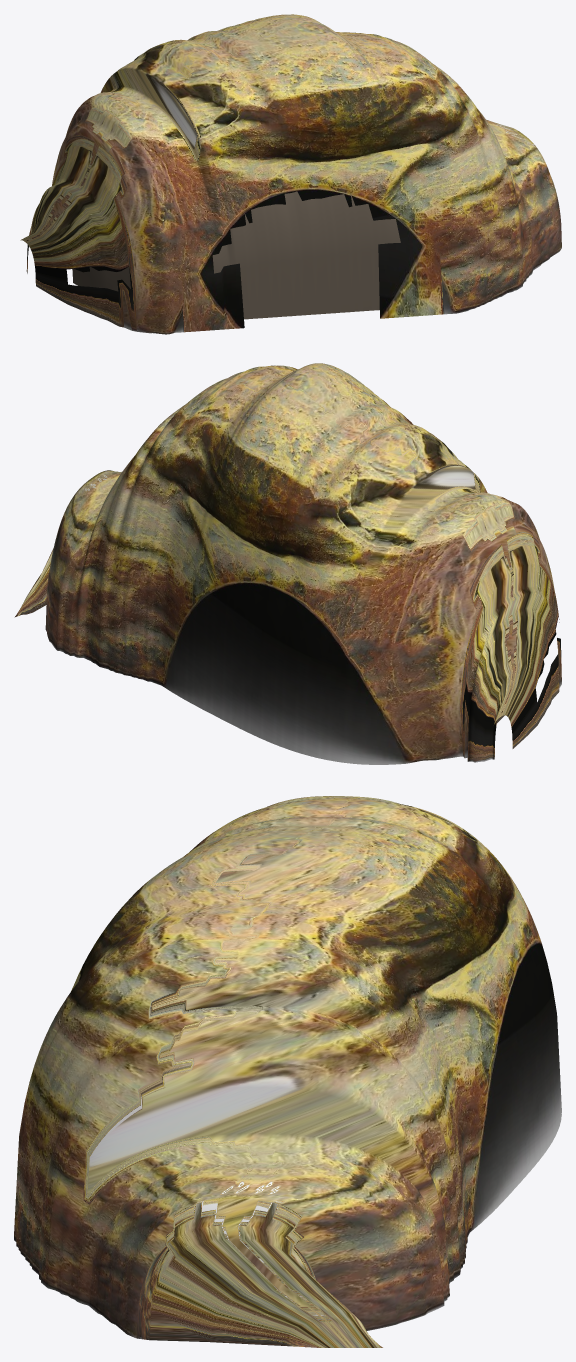
The model's file is skrivalica-pecina.glb.
3 renders of one model, top to bottom at view 1: azimuth 30°, elevation 25°; view 2: azimuth 150°, elevation 25°; view 3: azimuth 270°, elevation 25°, orthographic. The views are drawn at different scales.
Bounding box in the file's own units: 0.2 × 0.1 × 0.1425.
Materials: 2 (1 with a texture image).
